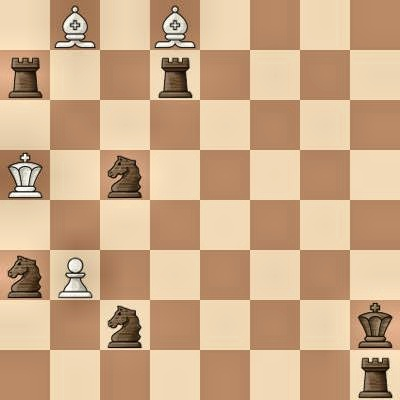black-king: (350, 300, 400, 350)
black-knight: (100, 150, 150, 200), (0, 250, 50, 300), (100, 300, 150, 350)
black-rook: (0, 50, 50, 100), (150, 50, 200, 100), (350, 350, 400, 400)
white-bishop: (50, 0, 100, 50), (150, 0, 200, 50)
white-king: (0, 150, 50, 200)
white-pawn: (50, 250, 100, 300)
